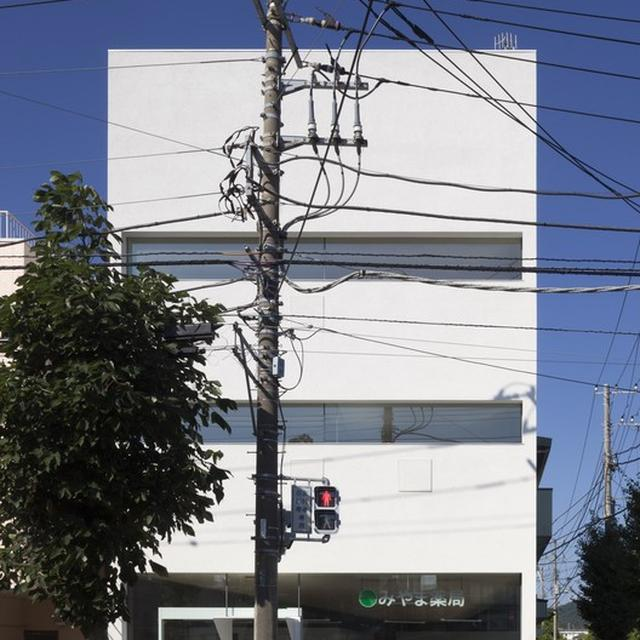building: (101, 40, 542, 640)
